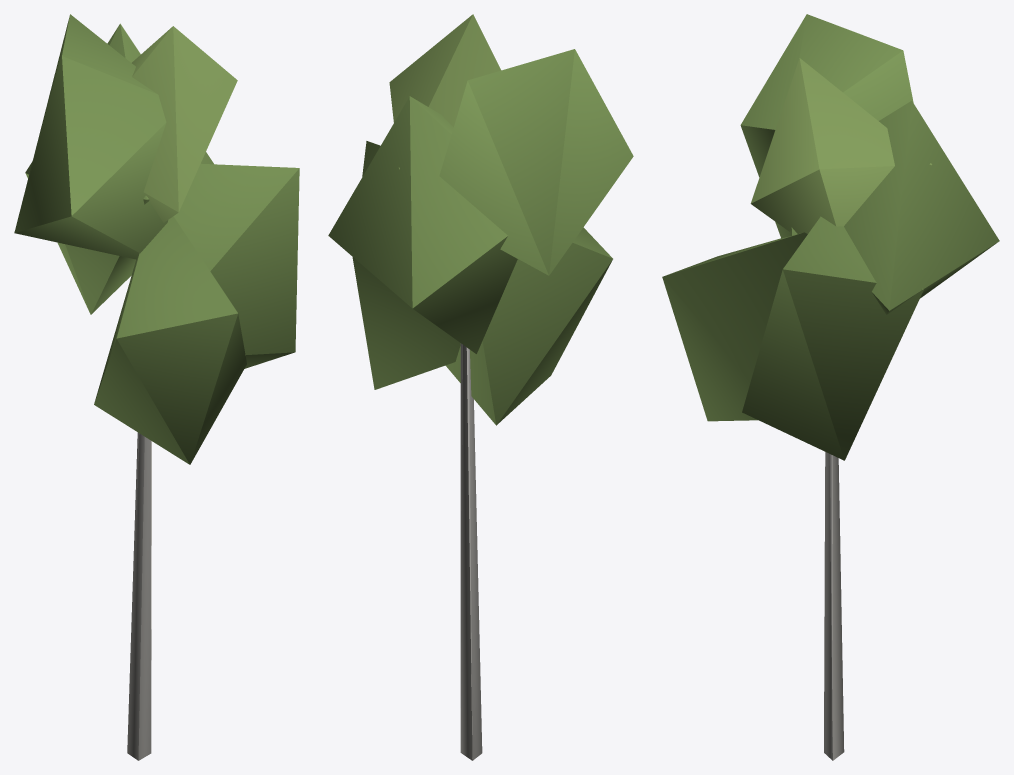
File: bouleau_lod1.glb
3 renders of one model, left to right at view 1: azimuth 30°, elevation 25°; view 2: azimuth 150°, elevation 25°; view 3: azimuth 270°, elevation 25°, orthographic. The views are drawn at different scales.
Parts seen in each view (by area): view 1: bouleau_lod1; view 2: bouleau_lod1; view 3: bouleau_lod1.
Boxes of the visible parts, x1=… form: bouleau_lod1: x1=14, y1=14, x2=299, y2=760; bouleau_lod1: x1=328, y1=14, x2=633, y2=760; bouleau_lod1: x1=662, y1=14, x2=999, y2=760.
Size of the model in its own units: 5.52 by 15.58 by 6.76.
